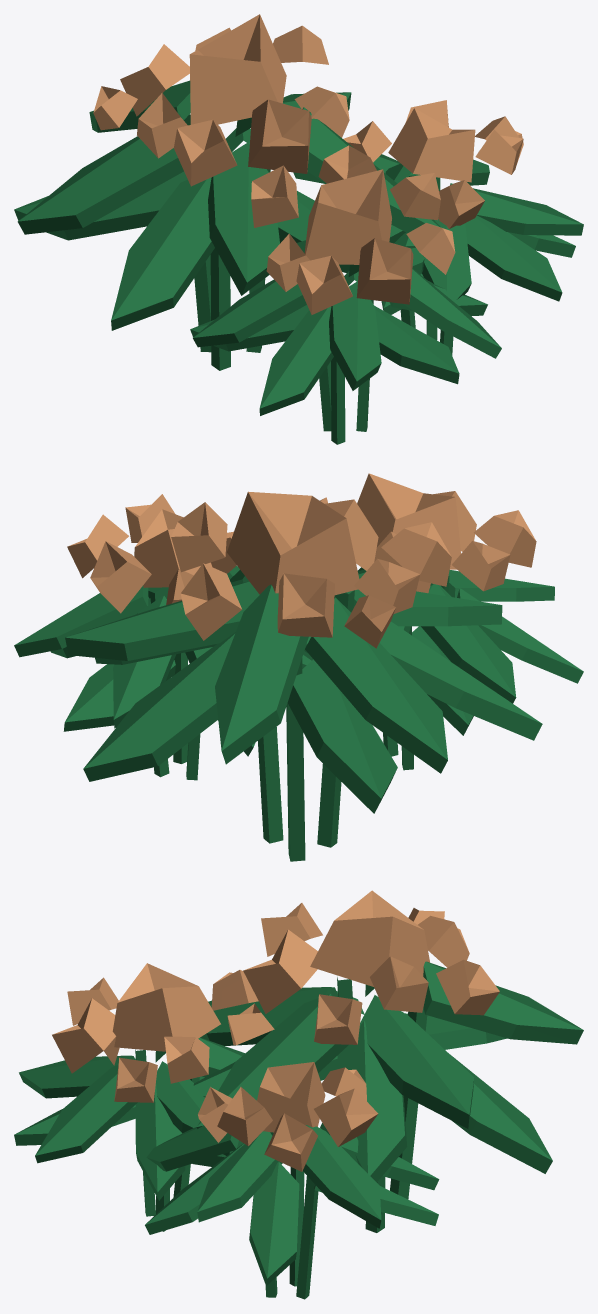
File: SM_Env_Flowers_02-optimized.glb
The picture shows the model from 3 angles, top to bottom: view 1: azimuth 30°, elevation 25°; view 2: azimuth 150°, elevation 25°; view 3: azimuth 270°, elevation 25°; orthographic projection. The views are drawn at different scales.
Parts seen in each view (by area): view 1: SM_Env_Flowers_02; view 2: SM_Env_Flowers_02; view 3: SM_Env_Flowers_02.
Boxes of the visible parts, box(x1,y1,x2,y2) form: SM_Env_Flowers_02: box(14, 14, 583, 444); SM_Env_Flowers_02: box(14, 473, 583, 861); SM_Env_Flowers_02: box(14, 890, 583, 1299).
Size of the model in its own units: 1.15 by 0.7722 by 1.25.
1 material, 1 textured.
